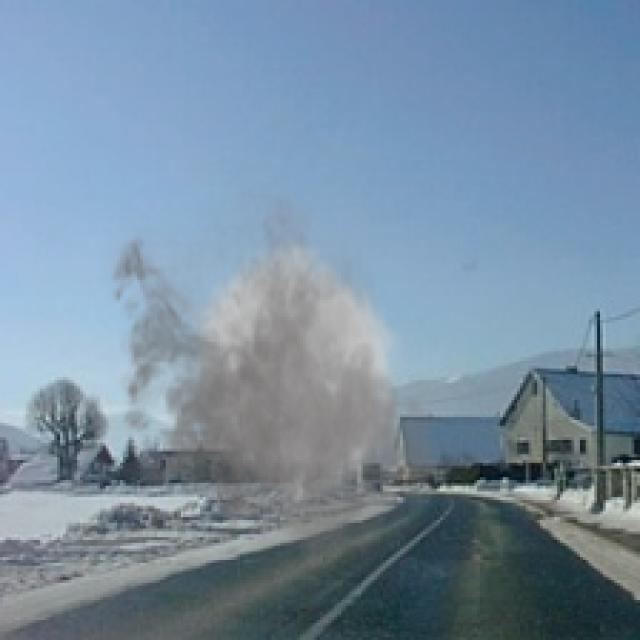smoke: (100, 168, 451, 583)
